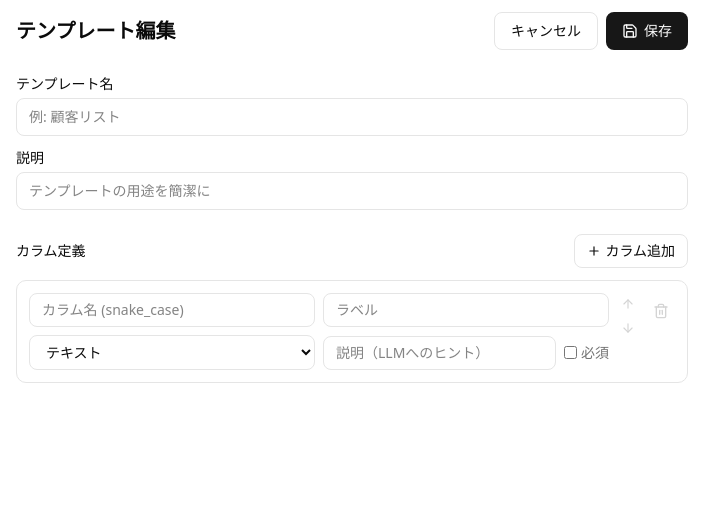
Test: TemplateEditor › adds a column when add button clicked
This screenshot has width=705, height=515.
Click the button "カラム追加" at (631, 251), box [574,234,688,268]
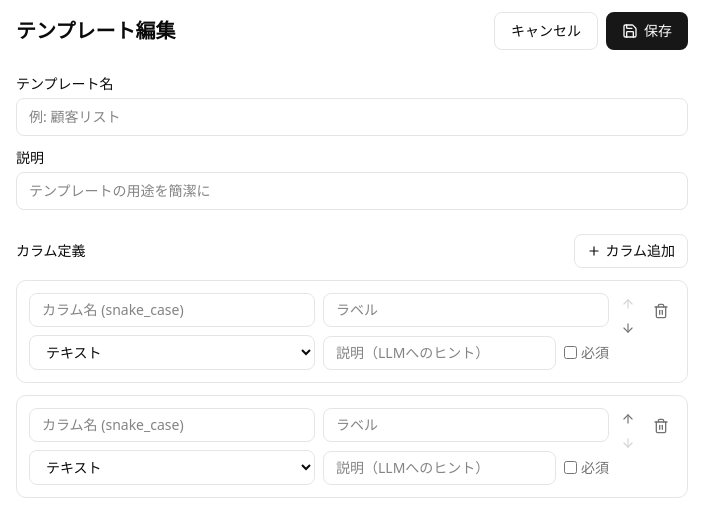
Now the number of fields with placeholder "カラム名 (snake_case)" is 2, box [29,293,315,327]; [29,408,315,442]
